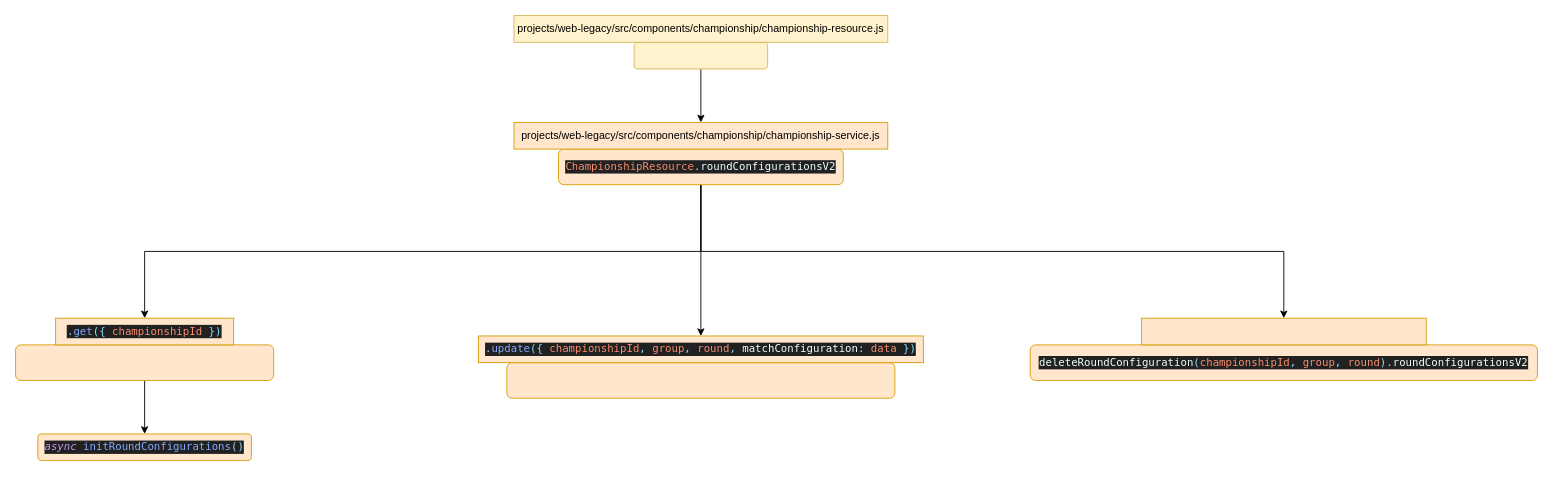
This 1553x480 diagram has some shape labels left out. The shapes that lost their labels are listed below. From the top down, each one's centre as x and y in pixels, then its label:
At (x=700, y=55): "roundConfigurationsV2".
At (x=1283, y=331): ". delete ({ championshipId , group , round })".
At (x=144, y=362): "getRoundsConfiguration ( championshipId )".
At (x=700, y=380): "saveRoundConfiguration ( championshipId , group , round , data )".
